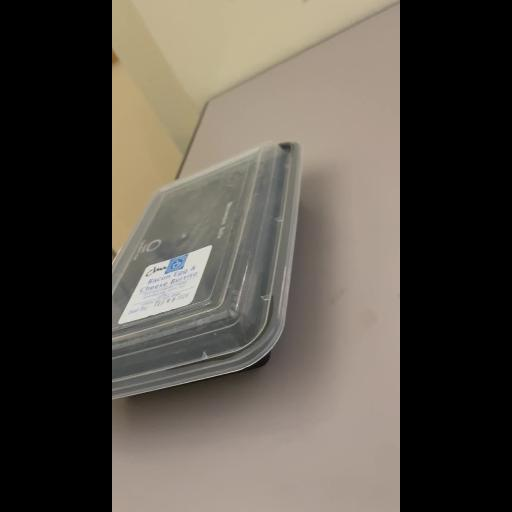rigid_plastic_container: (112, 134, 304, 410)
